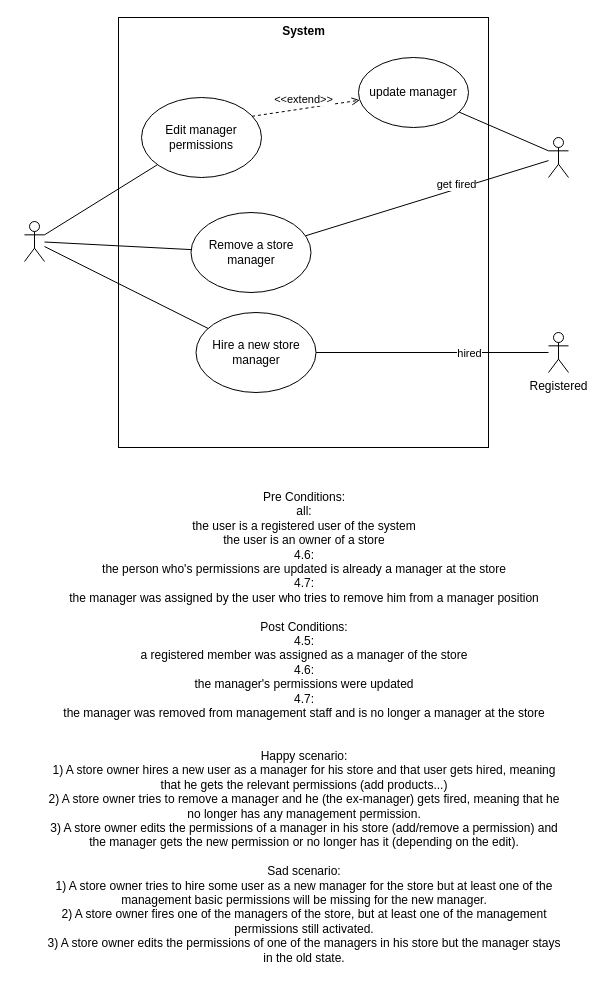
Some shapes in this 605 by 982 pixel diagram are drawn without their labels. The shapes that lost their labels are listed below. From the top down, each one's box as (x1, y1, x2, y2) in pixels, then its label:
(548, 136, 568, 178): Manager
(24, 220, 44, 262): Owner
